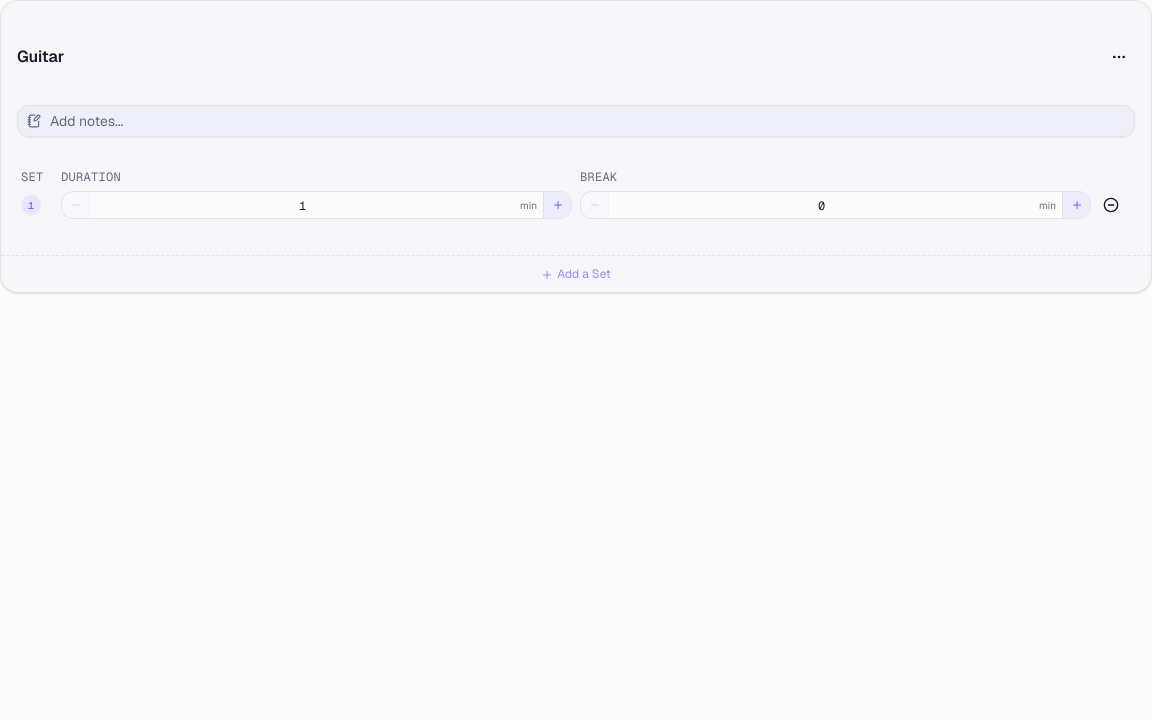
RoutineBlockCard editable › Delete menu item opens the destructive confirmation dialog
Click the button named "block actions" at (1119, 57), box x1=1103 y1=41 x2=1135 y2=73
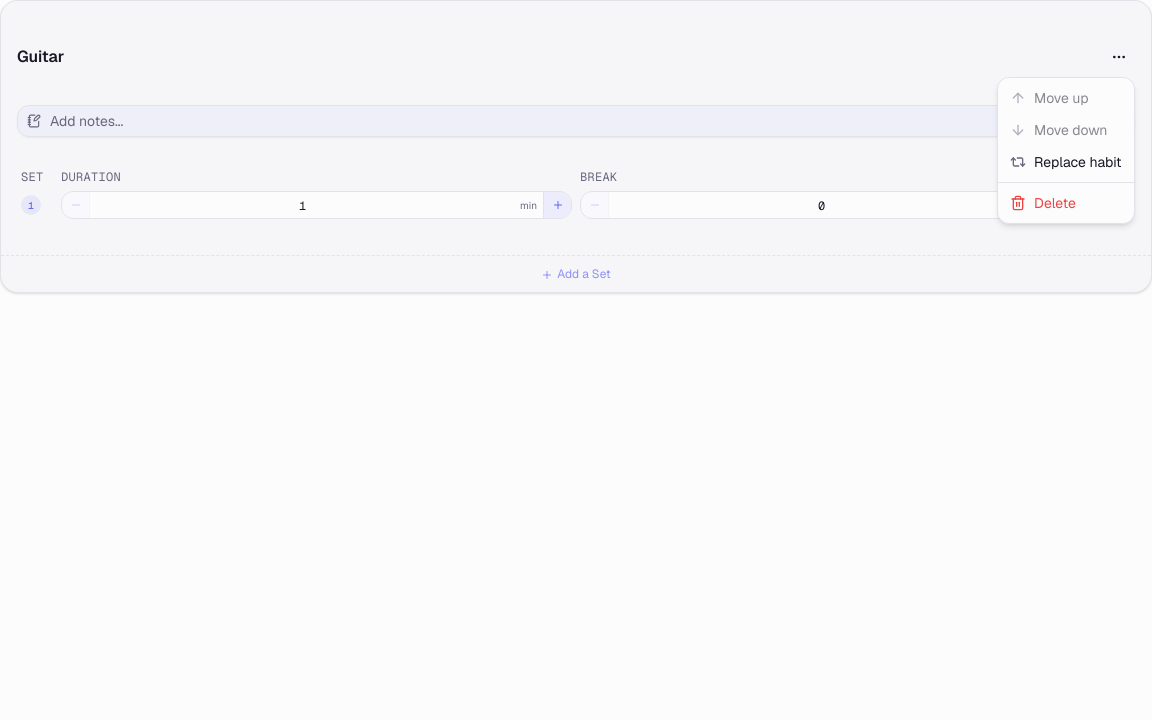
Click the menu item "Delete" at (1043, 203), box x1=1010 y1=194 x2=1076 y2=212
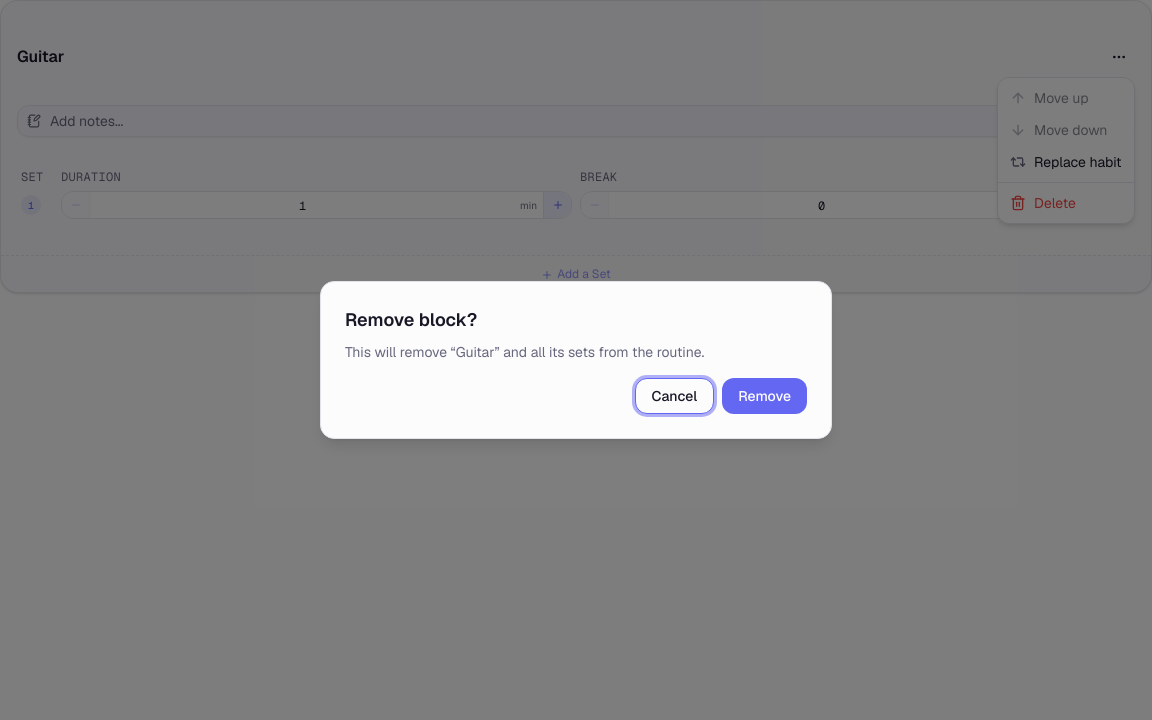
Result: the dialog is shown at x1=320 y1=281 x2=832 y2=439
Result: the heading "Remove block?" is shown at x1=345 y1=308 x2=477 y2=331
